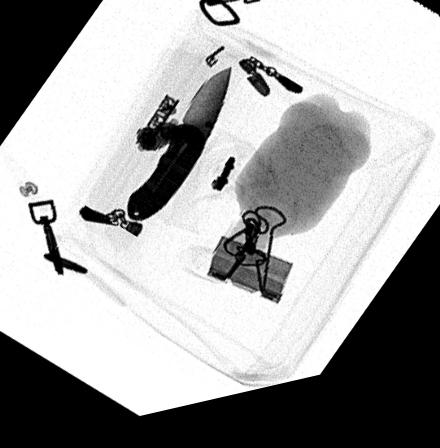Knife: (125, 76, 232, 227)
